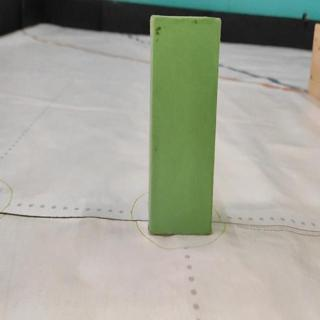greenbox: (149, 15, 221, 236)
